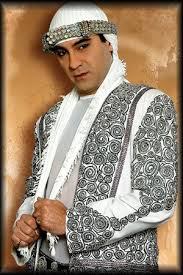middle_eastern_male: (56, 35, 118, 97)
